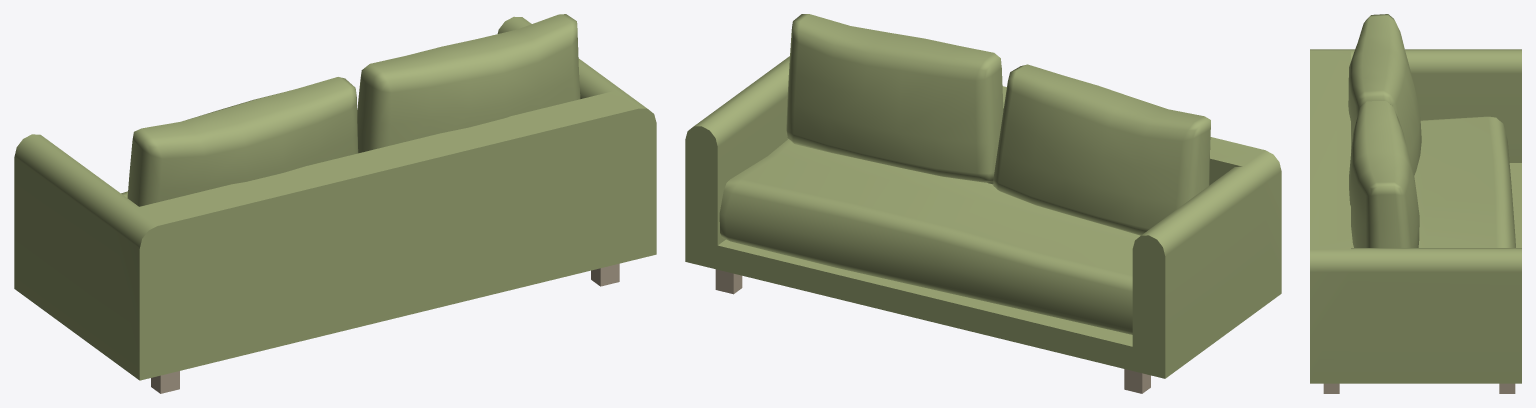
Rendered from sofa.fbx.
3 renders of one model, left to right at view 1: azimuth 30°, elevation 25°; view 2: azimuth 150°, elevation 25°; view 3: azimuth 270°, elevation 25°, orthographic. The views are drawn at different scales.
Visible parts, largest first — view 1: sofa; view 2: sofa; view 3: sofa.
Part boxes in pixels (x1,y1,x2,y2): sofa: (14,14,656,393); sofa: (685,14,1281,393); sofa: (1310,14,1521,393).
Size of the model in its own units: 242 by 109 by 102.
